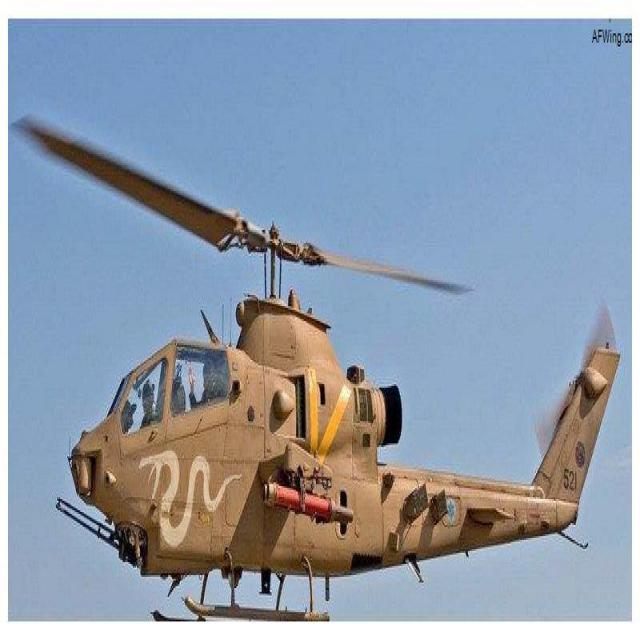MIL_HELO: (10, 105, 619, 640)
